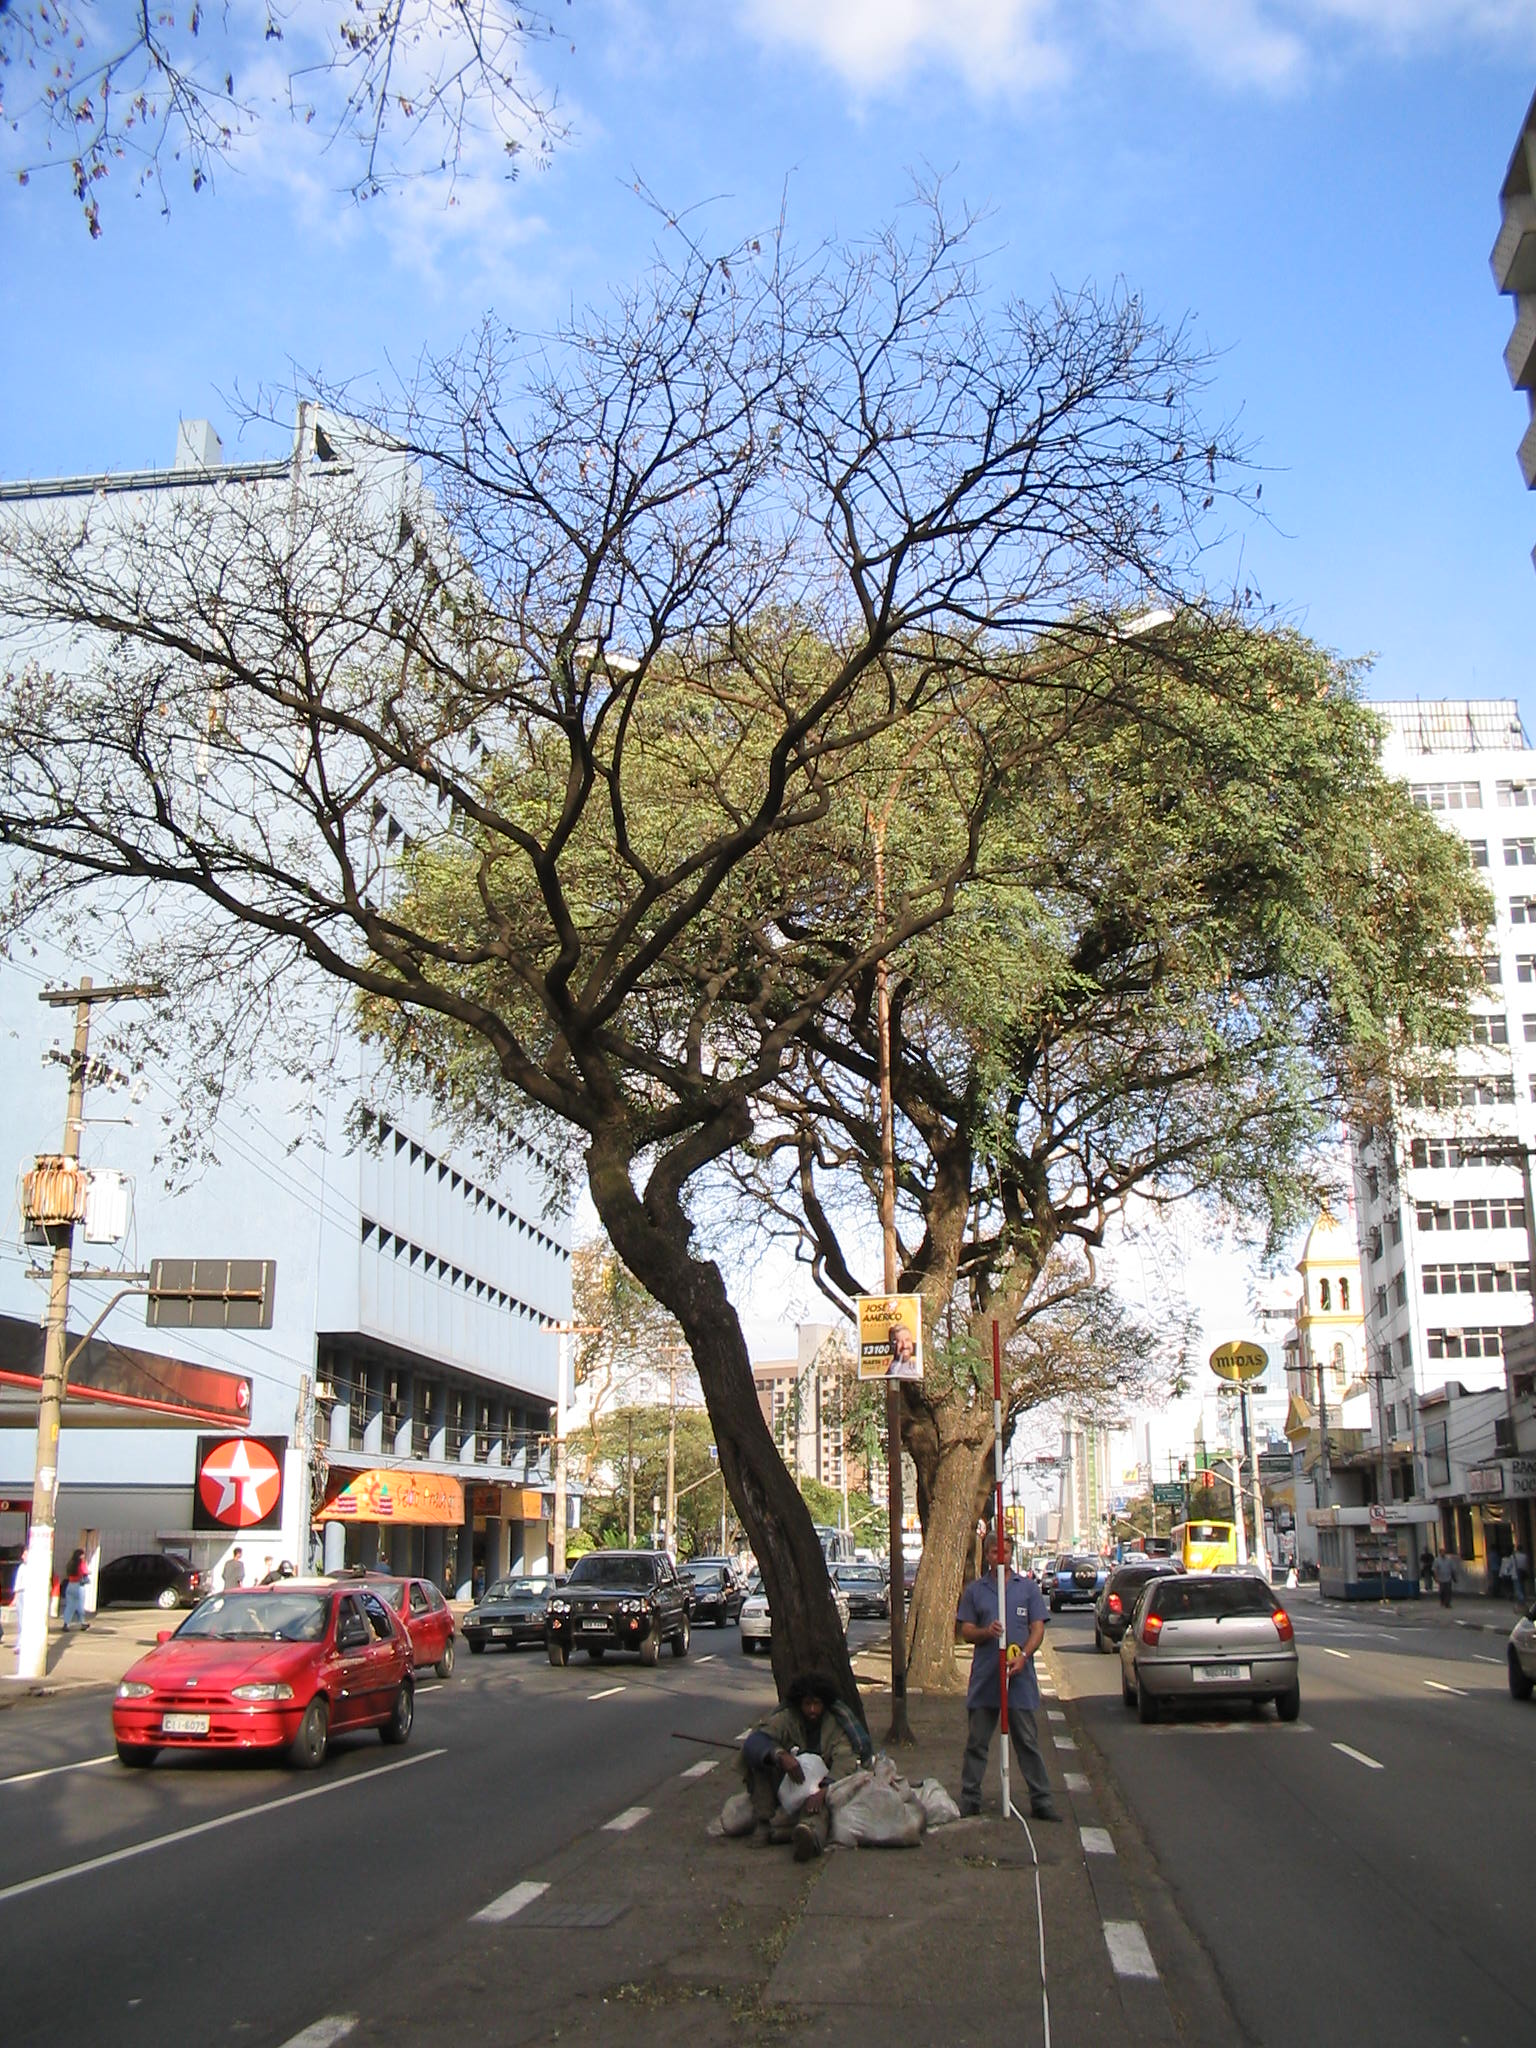crown: (366, 603, 1492, 1245)
stem: (578, 1237, 891, 1792), (866, 1463, 1008, 1687)
stick: (971, 1321, 1028, 1821)
tree: (11, 166, 1234, 1795), (365, 600, 1488, 1687)
